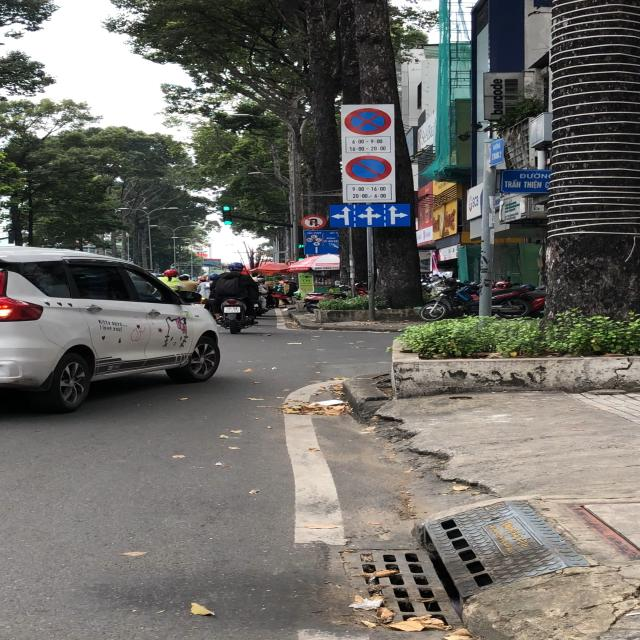Bien bao cam do xe: (339, 153, 396, 186)
Bien bao cam dung xe va do xe: (343, 108, 397, 136)
Bien bao cam quay dau xe: (299, 213, 328, 229)
